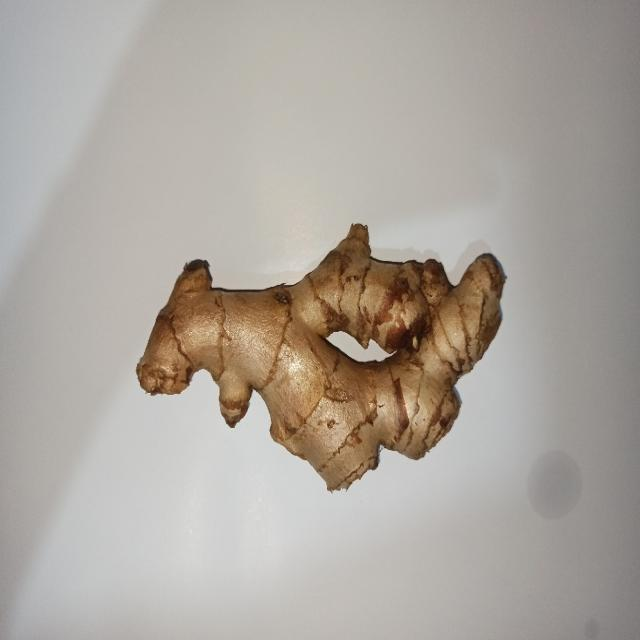ginger: (143, 252, 505, 490)
